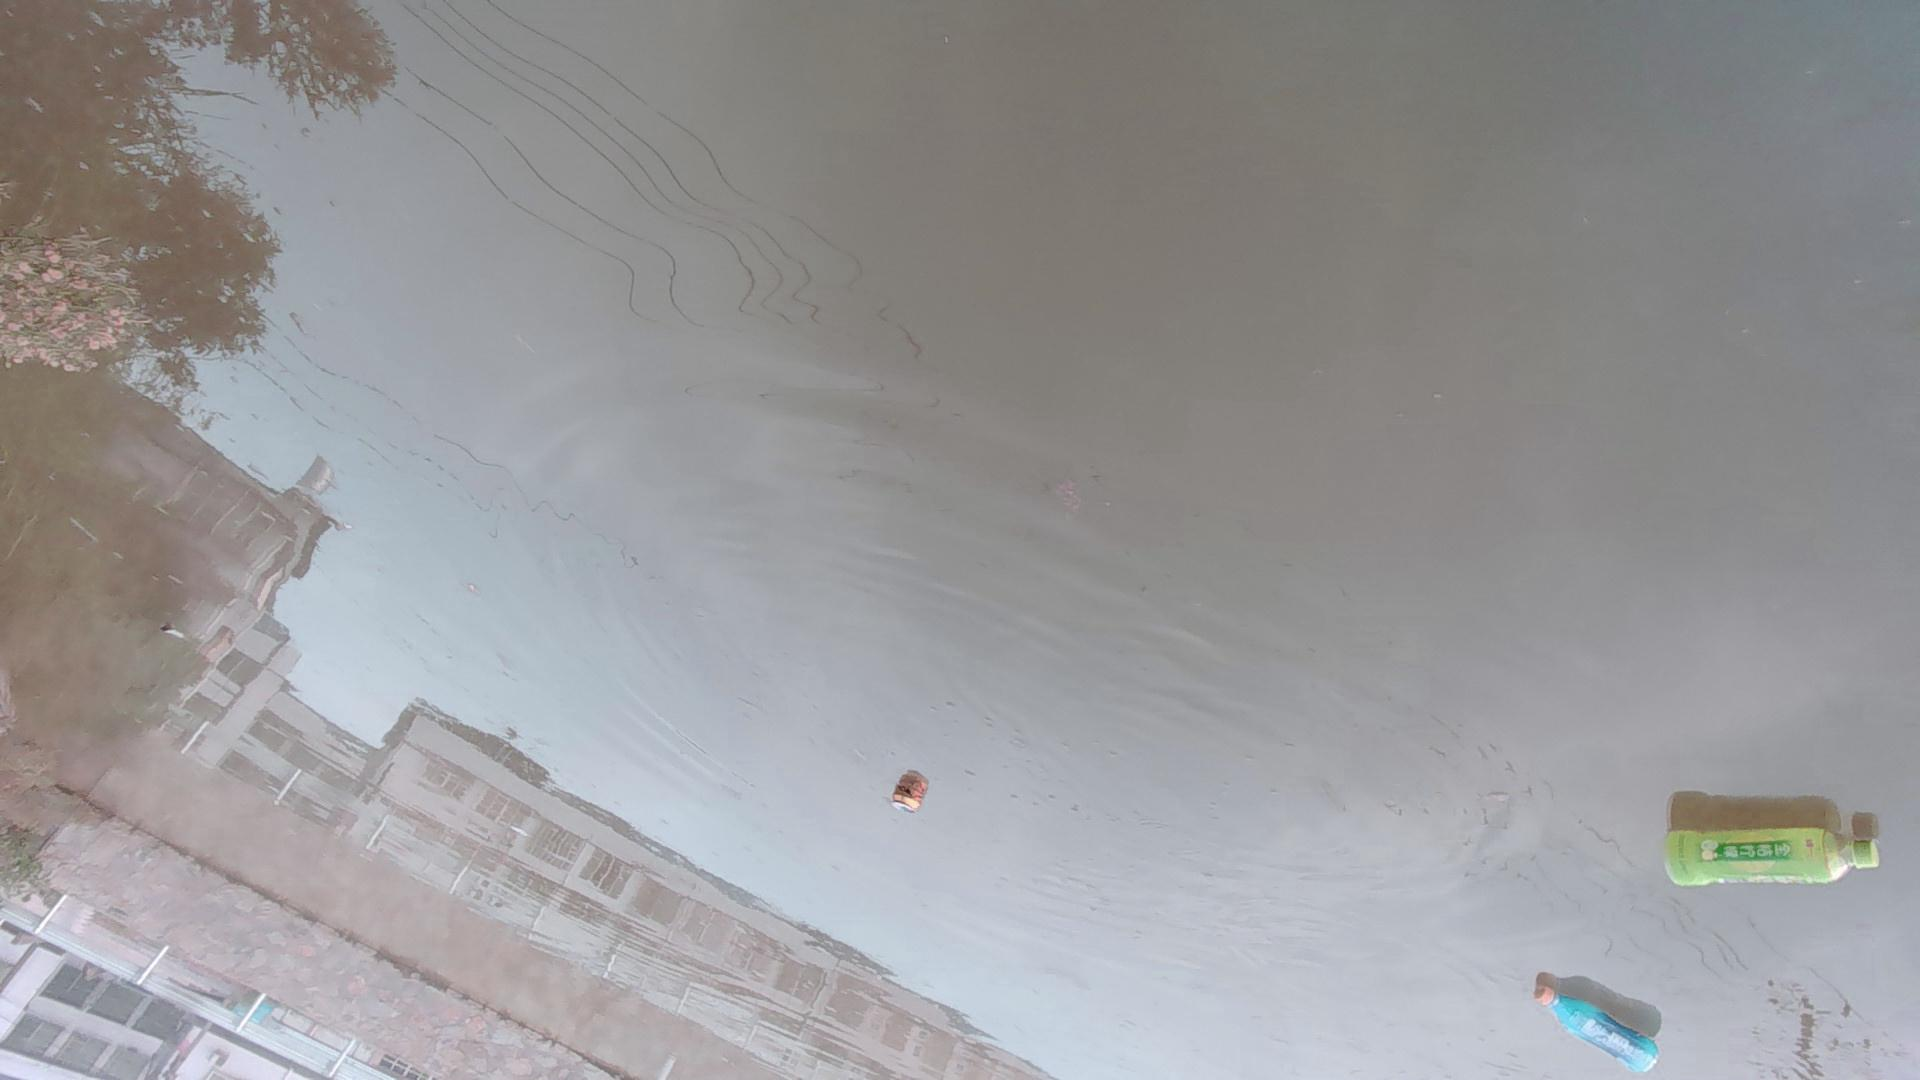Plastic: (1658, 819, 1888, 895), (1534, 981, 1664, 1075), (882, 770, 939, 823)
